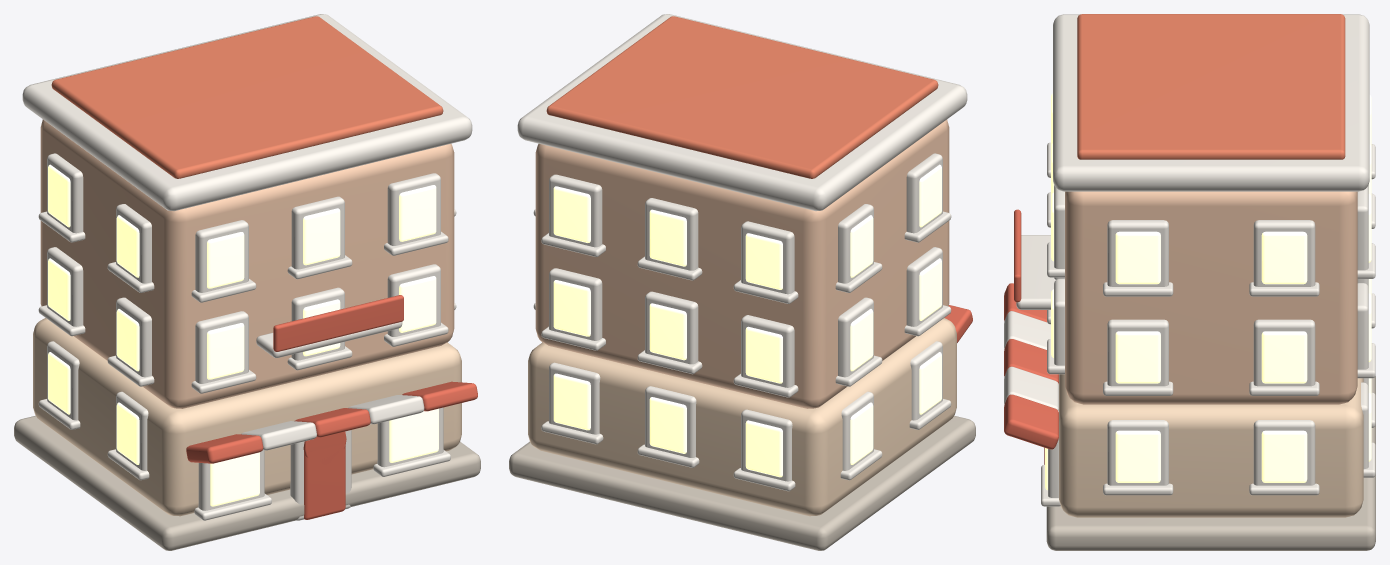
3 renders of one model, left to right at view 1: azimuth 30°, elevation 25°; view 2: azimuth 150°, elevation 25°; view 3: azimuth 270°, elevation 25°, orthographic. The views are drawn at different scales.
Visible parts, largest first — view 1: Cube; view 2: Cube; view 3: Cube.
Part boxes in pixels (x1,y1,x2,y2): Cube: (14, 14, 480, 550); Cube: (509, 14, 975, 550); Cube: (1004, 14, 1375, 550).
Size of the model in its own units: 0.64 by 0.7055 by 0.61.
